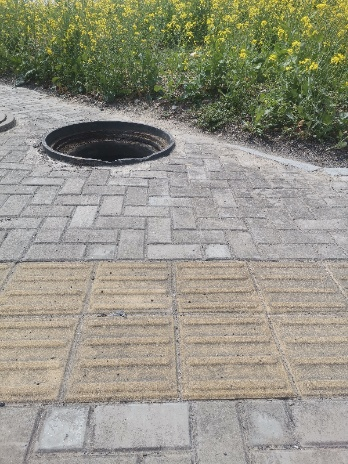lose: (42, 119, 175, 165)
